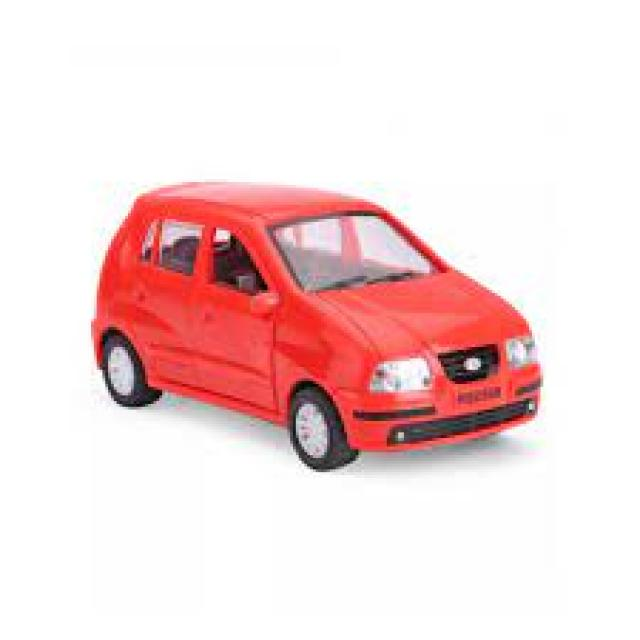Car: (88, 180, 541, 470)
